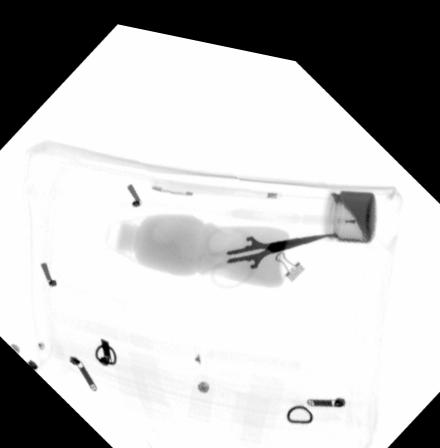Scissors: (204, 212, 332, 281)
